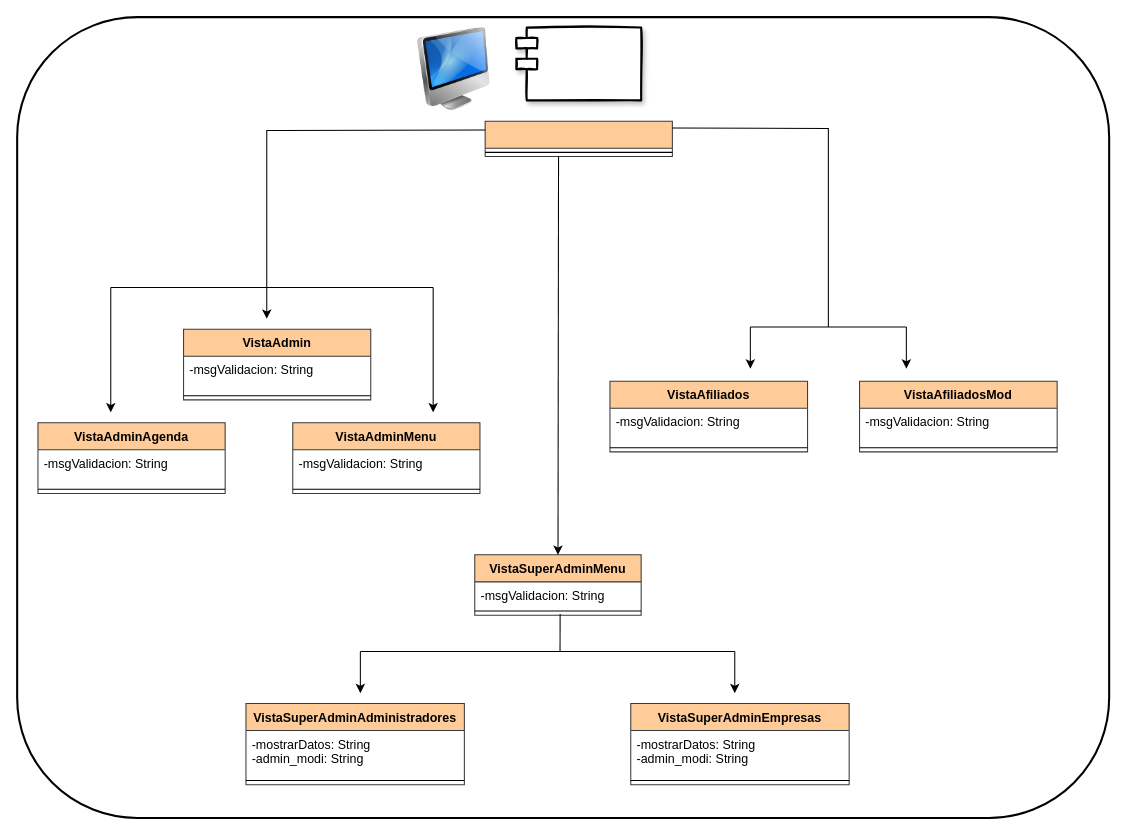
Some shapes in this 1126 by 835 pixel diagram are drawn without their labels. The shapes that lost their labels are listed below. From the top down, each one's centre as x and y in pixels, then its label:
At [579,65]: "VISTA".
At [578,138]: "Index".
